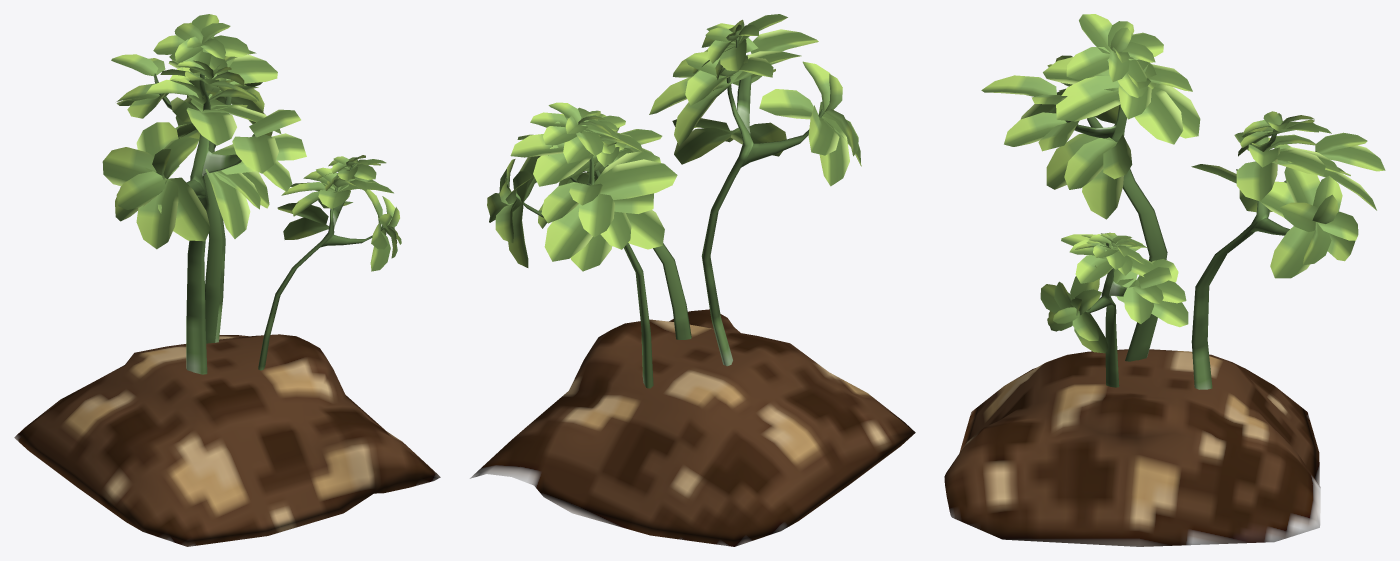
Rendered from Elderberry Stage 1 New.fbx.
3 views of the same model, side by side, from view 1: azimuth 30°, elevation 25°; view 2: azimuth 150°, elevation 25°; view 3: azimuth 270°, elevation 25° (orthographic). The views are drawn at different scales.
Visible parts, largest first — view 1: Elderberry_Stage5; view 2: Elderberry_Stage5; view 3: Elderberry_Stage5.
Part boxes in pixels (x1,y1,x2,y2): Elderberry_Stage5: [14, 14, 440, 546]; Elderberry_Stage5: [469, 14, 915, 546]; Elderberry_Stage5: [944, 14, 1385, 546].
Size of the model in its own units: 15.56 by 19.55 by 18.16.
1 material, 1 textured.
